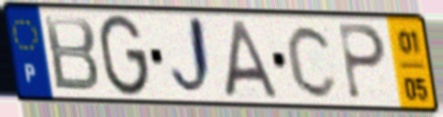A: (223, 18, 281, 100)
B: (40, 13, 103, 95)
C: (284, 21, 340, 101)
G: (97, 11, 152, 99)
J: (168, 13, 218, 102)
P: (336, 21, 389, 103)
